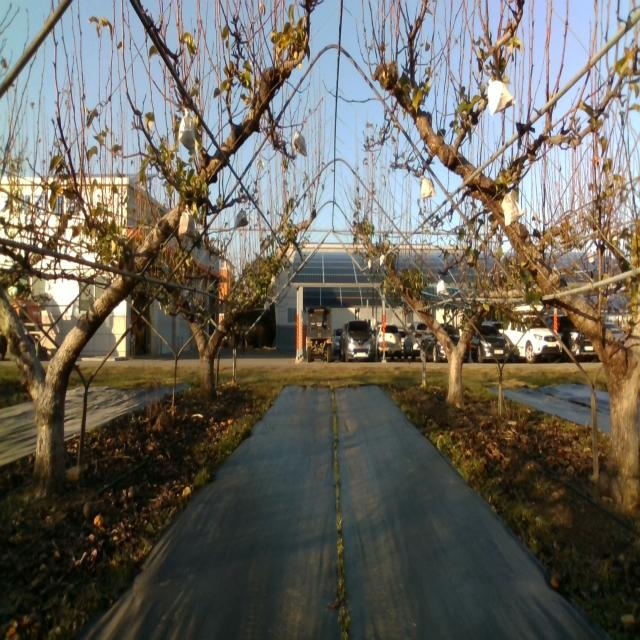pearbags: (488, 80, 515, 114), (500, 192, 524, 225), (179, 107, 195, 150), (179, 204, 196, 238), (292, 130, 307, 157), (420, 175, 436, 198), (235, 208, 249, 230)
